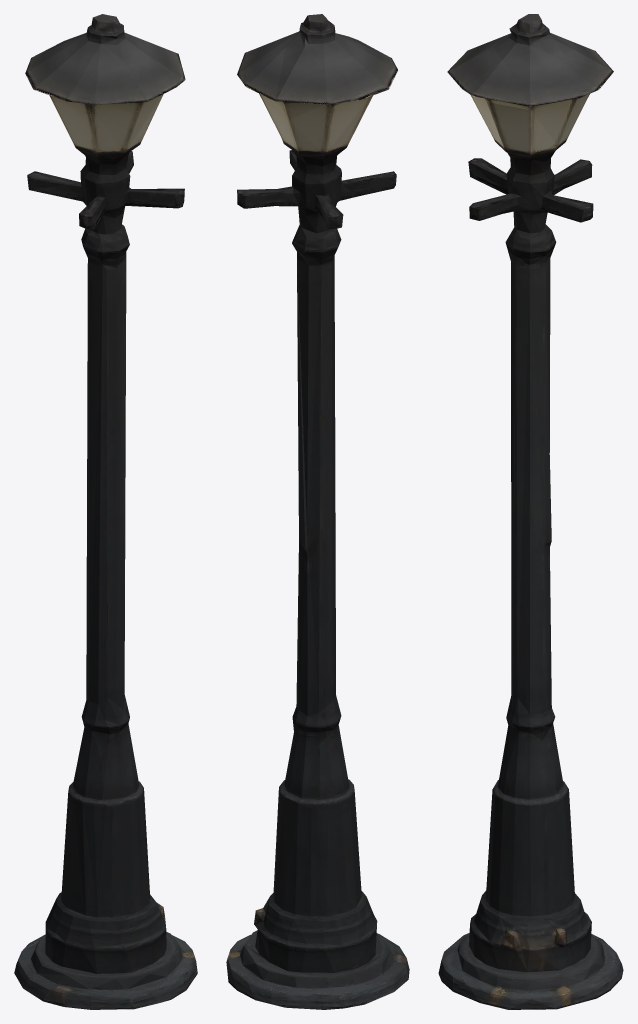
File: street_lamp.glb
3 renders of one model, left to right at view 1: azimuth 30°, elevation 25°; view 2: azimuth 150°, elevation 25°; view 3: azimuth 270°, elevation 25°, orthographic.
Parts seen in each view (by area): view 1: geometry_0; view 2: geometry_0; view 3: geometry_0.
Part boxes in pixels (box(x1,y1,x2,y2)): geometry_0: box(14, 14, 197, 1009); geometry_0: box(226, 14, 409, 1009); geometry_0: box(438, 14, 623, 1009).
Size of the model in its own units: 0.1748 by 1 by 0.1759.
Materials: 1 (1 with a texture image).
